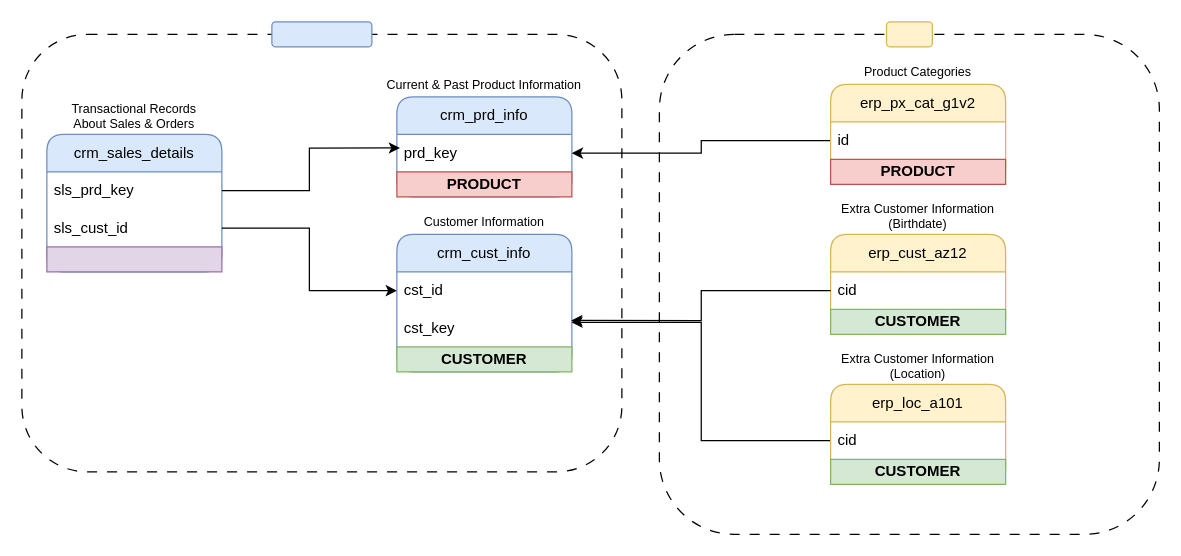
The diagram is 1181 pixels wide and 556 high, and some of its shapes have lost their labels. The shapes that lost their labels are listed below. From the top down, each one's centre as x and y in pixels, then its label:
pixel 321 34: CRM
pixel 908 34: ERP
pixel 134 259: SALES
